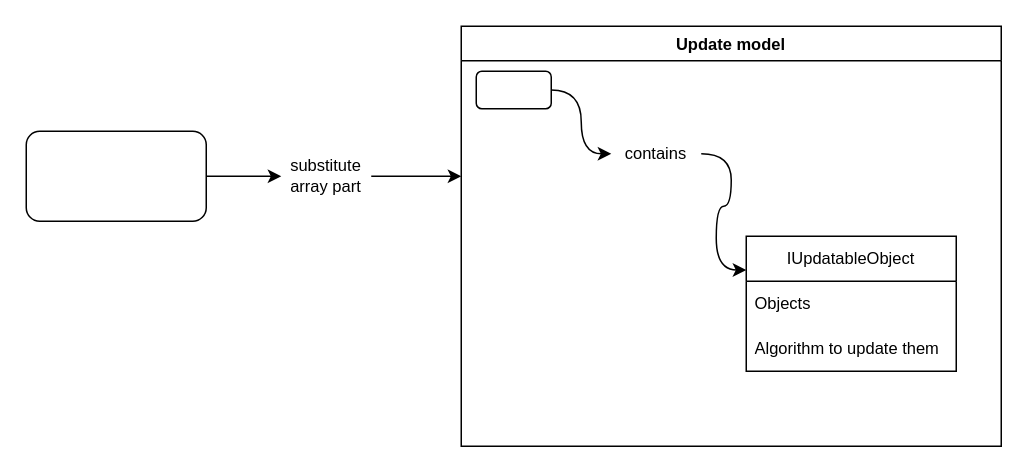
Some shapes in this 1028 by 473 pixel diagram are drawn without their labels. Here are the shapes that lost their labels. From the top down, the centre of each, then its label:
the point at 513,89: Game
the point at 115,175: Updatable[]
